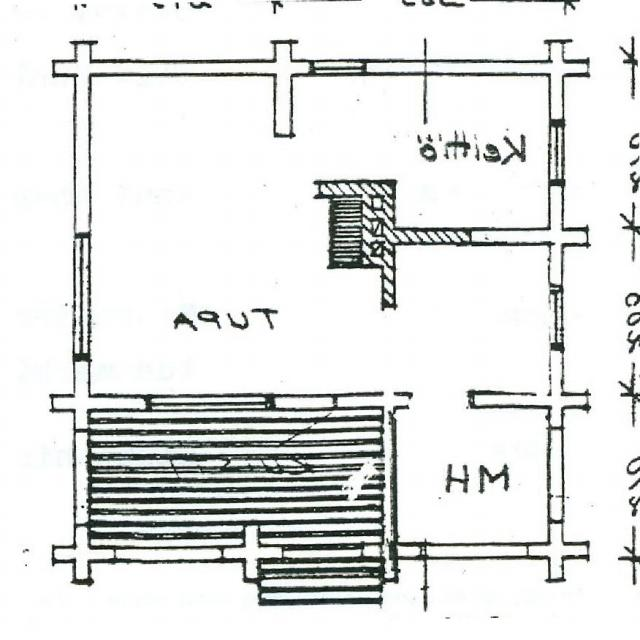door: (273, 394, 335, 469)
